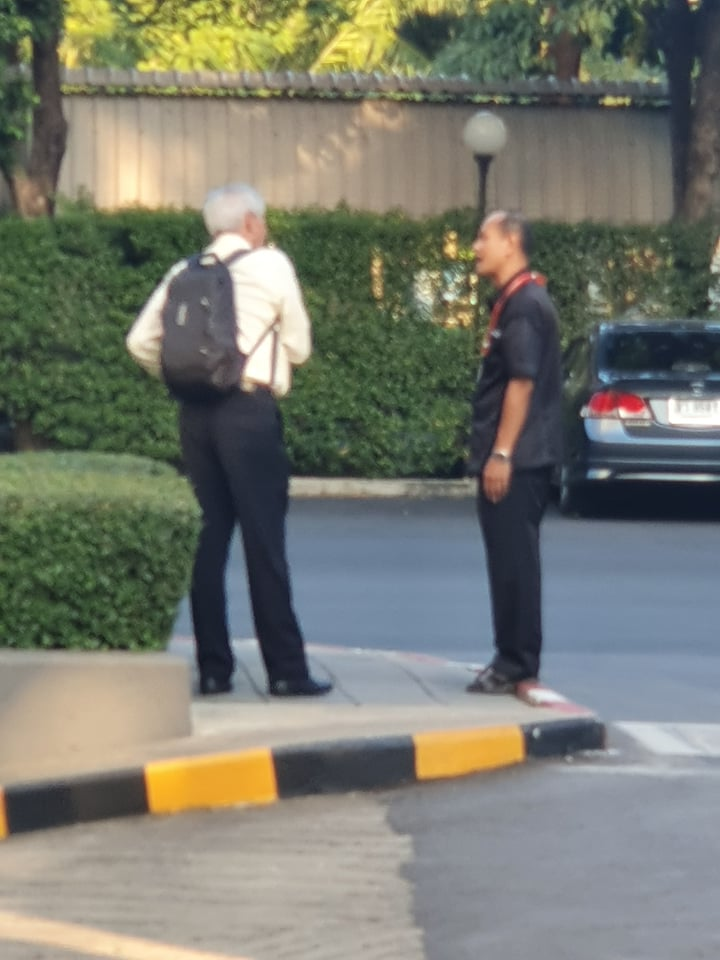friend: (95, 122, 633, 730)
single: (106, 146, 369, 713), (435, 202, 610, 730)
